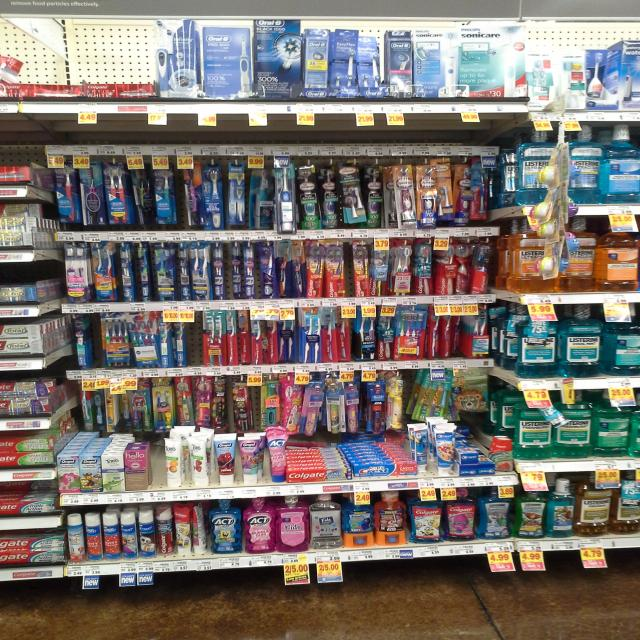unorganised: (410, 372, 451, 420), (249, 162, 276, 228), (277, 238, 305, 297), (451, 369, 489, 412), (361, 162, 383, 229), (162, 437, 186, 488), (435, 158, 455, 218), (187, 438, 210, 488), (456, 163, 474, 225), (191, 503, 210, 555), (456, 242, 471, 293), (412, 427, 429, 468), (454, 314, 467, 355)
